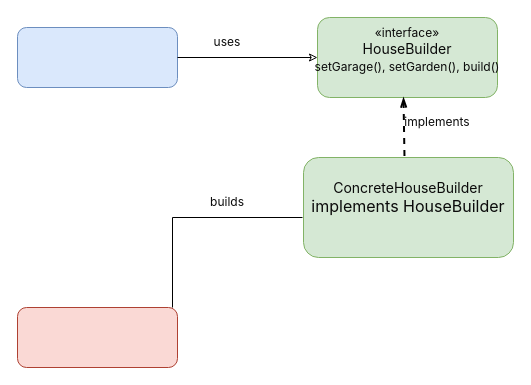
This 531x385 diagram has some shape labels left out. Each missing label, with the box of its shape:
House garage, garden, pool, fancyStatues: (16, 306, 178, 368)
HouseDirector buildHouseWithGarage(): (16, 26, 178, 88)
